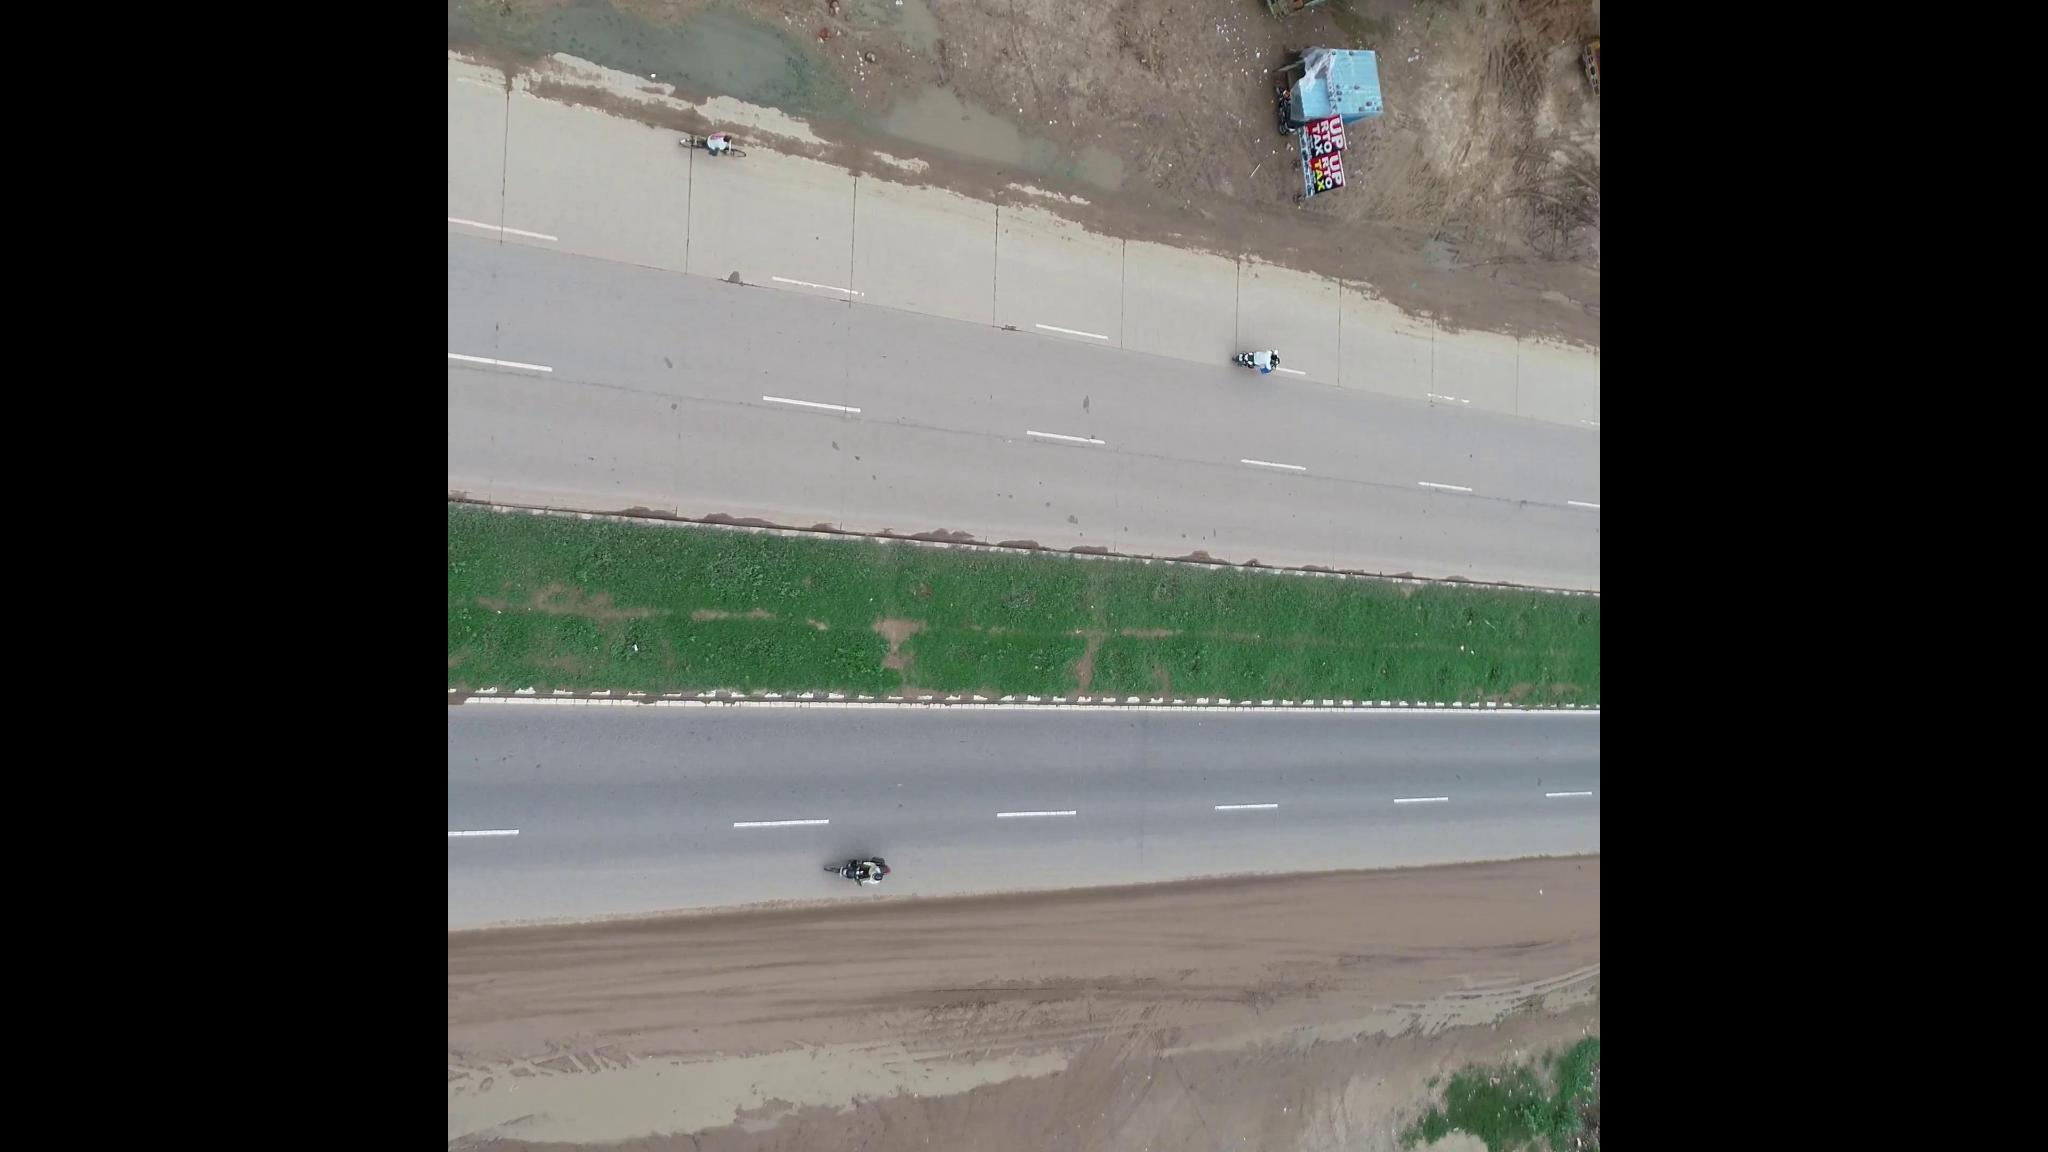Muddy_road: (468, 888, 1047, 1075), (1047, 864, 1596, 1039)
